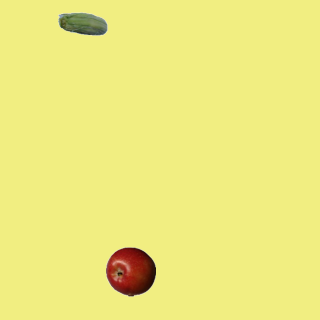Apple Braeburn: (105, 246, 155, 296)
Corn Husk: (57, 0, 107, 50)
